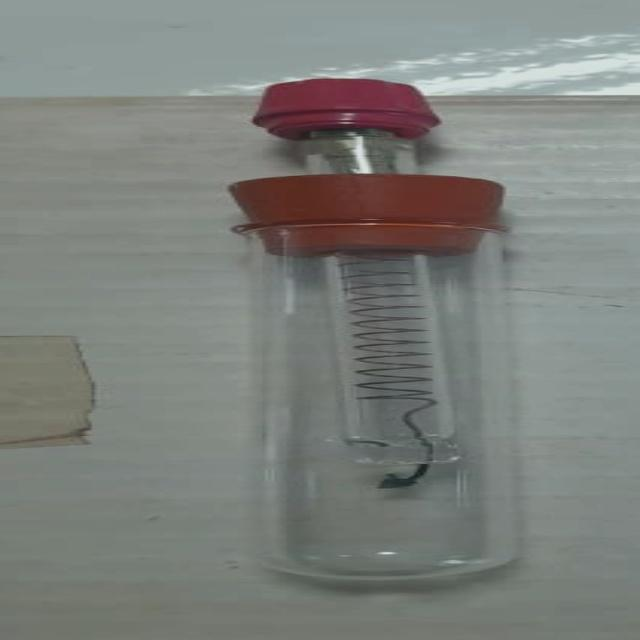Electrode: (206, 73, 564, 583)
